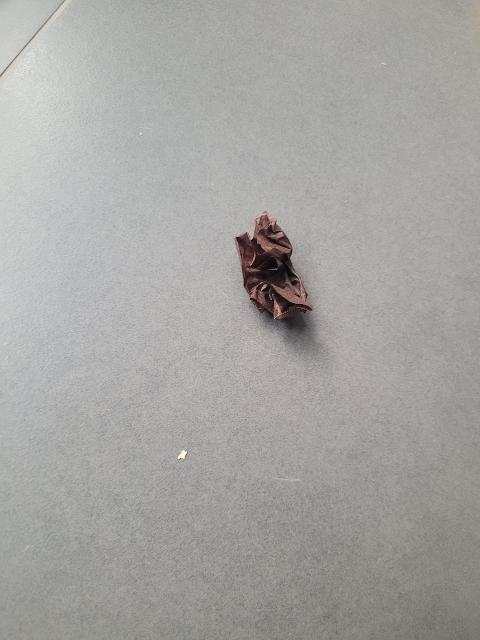Kagit: (230, 211, 315, 325)
